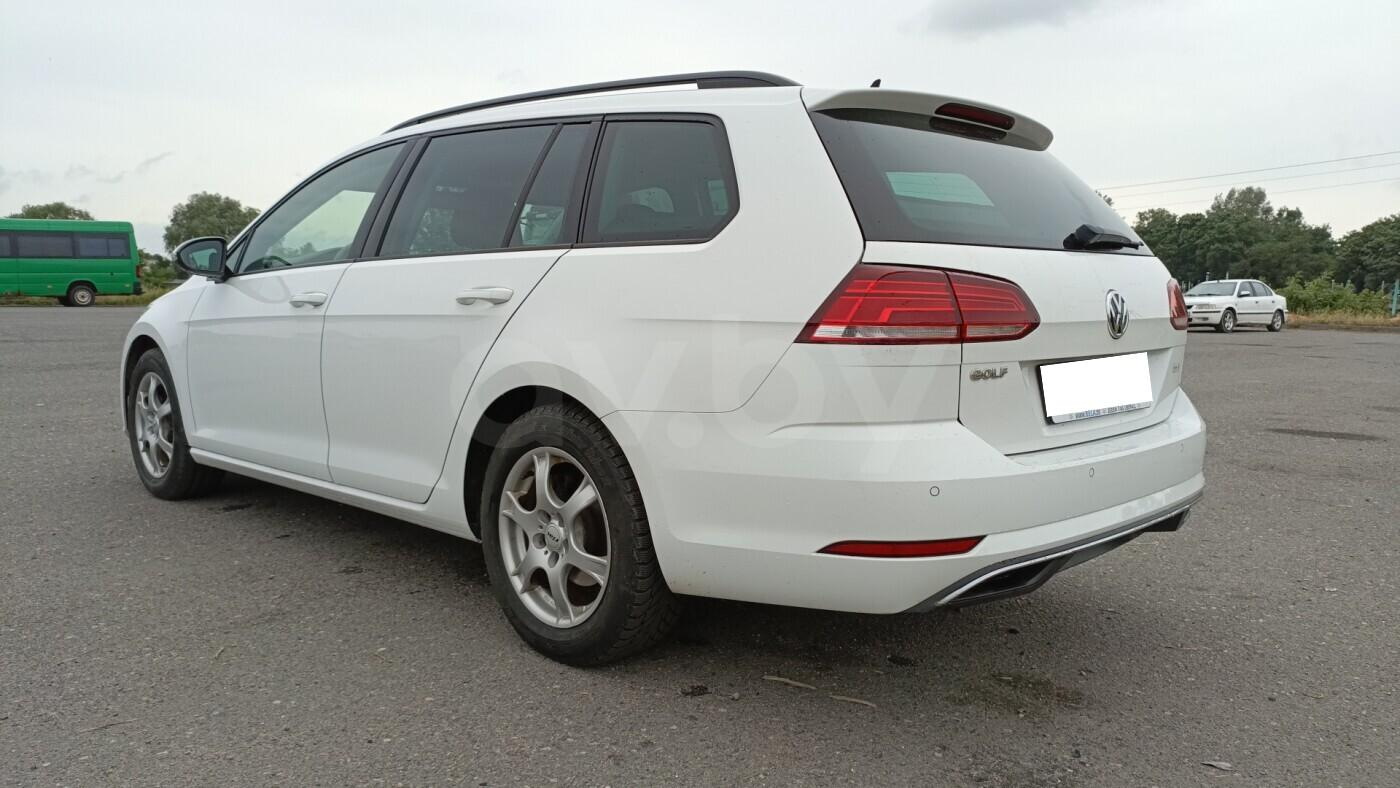Golf_2017-2021: (117, 81, 1212, 668)
